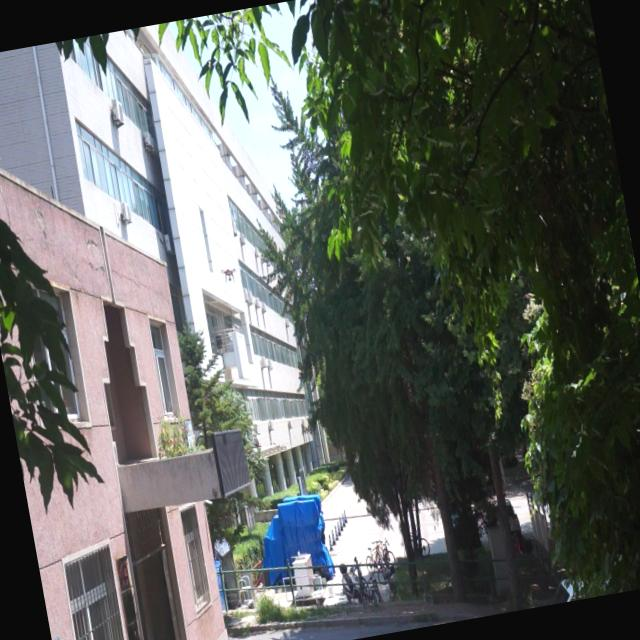drone: (218, 261, 240, 288)
